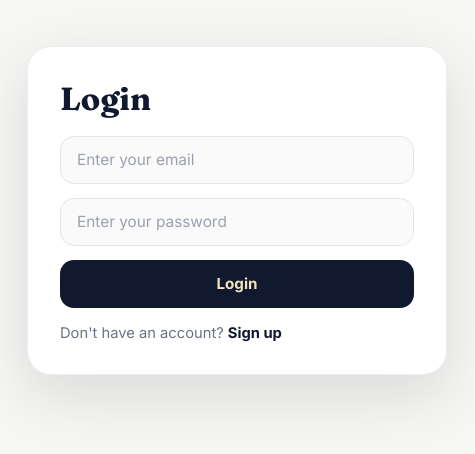
Navigation and Route Protection › allows navigation between login and signup
Step 1. Click the button with test id "goto-signup-link" → (255, 333), box [228,324,282,342]
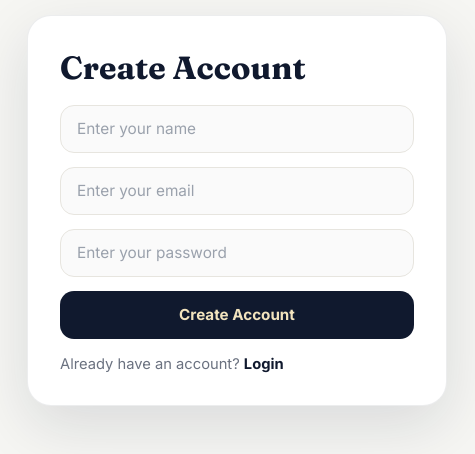
Check: the heading with test id "signup-heading" reads "Create Account", box [60,48,306,87]
Step 2. Click the button with test id "goto-login-link" → (264, 364), box [244,355,284,373]
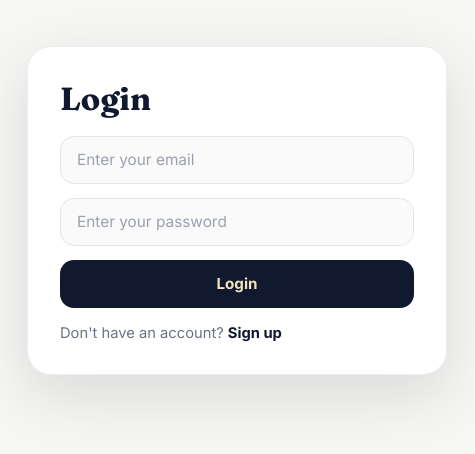
Check: the heading with test id "login-heading" reads "Login", box [60,79,151,118]
